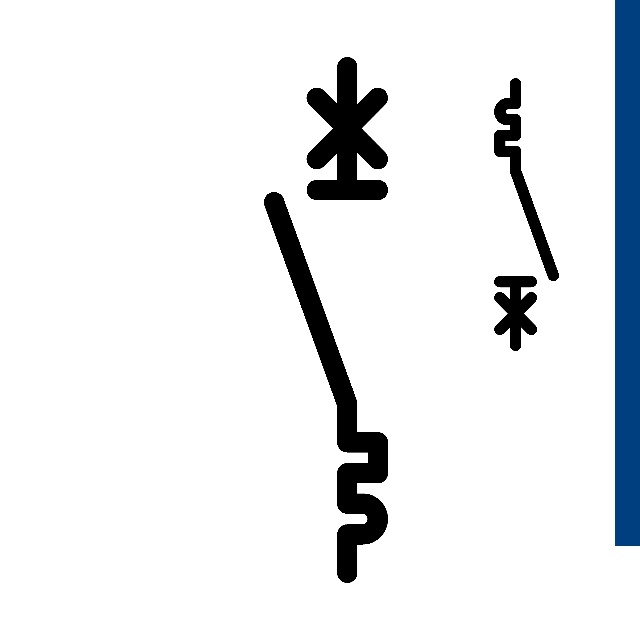interruptor_termomagnetico: (261, 54, 391, 586), (493, 77, 560, 351)
